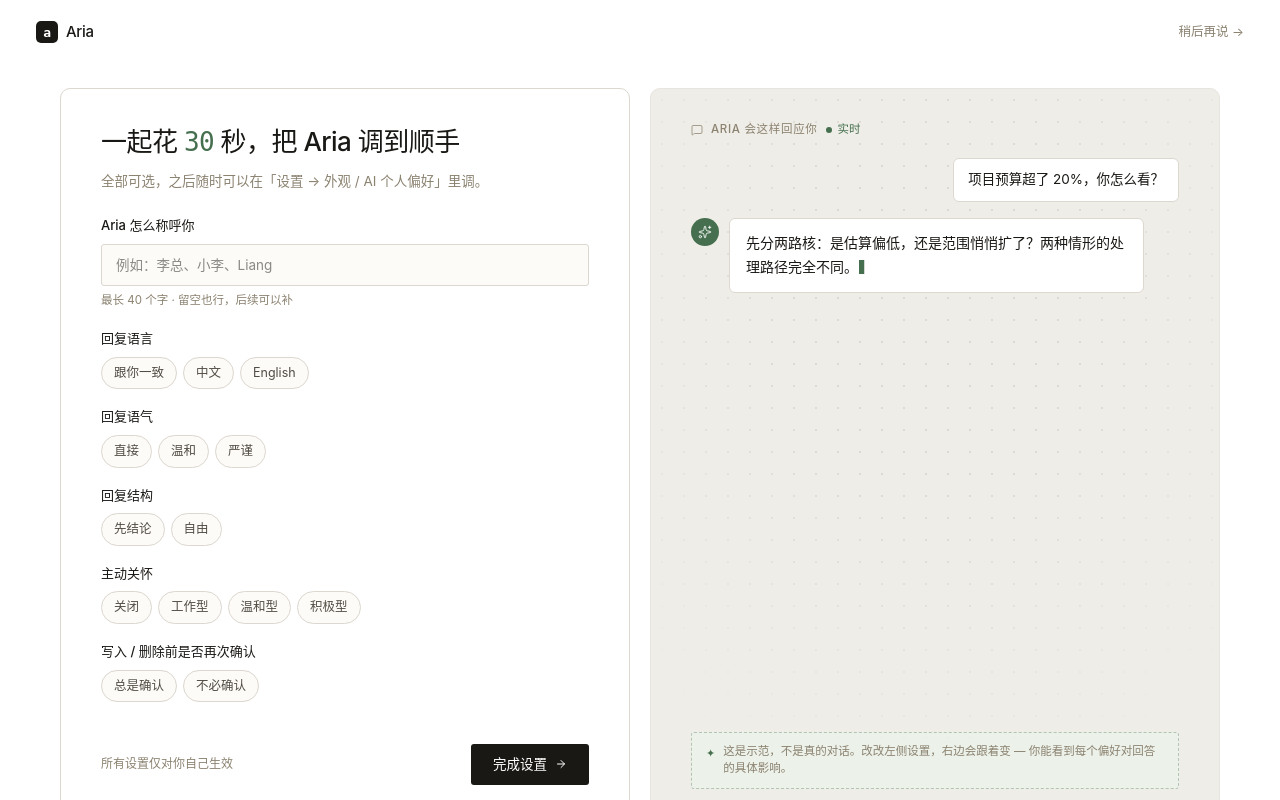
Test: PreferenceOnboarding rendered behaviour › clicking a chip toggles aria-checked on the radio and re-renders the preview
Click the radio button labelled "温和" at {"x": 184, "y": 451}, box [158, 435, 209, 468]
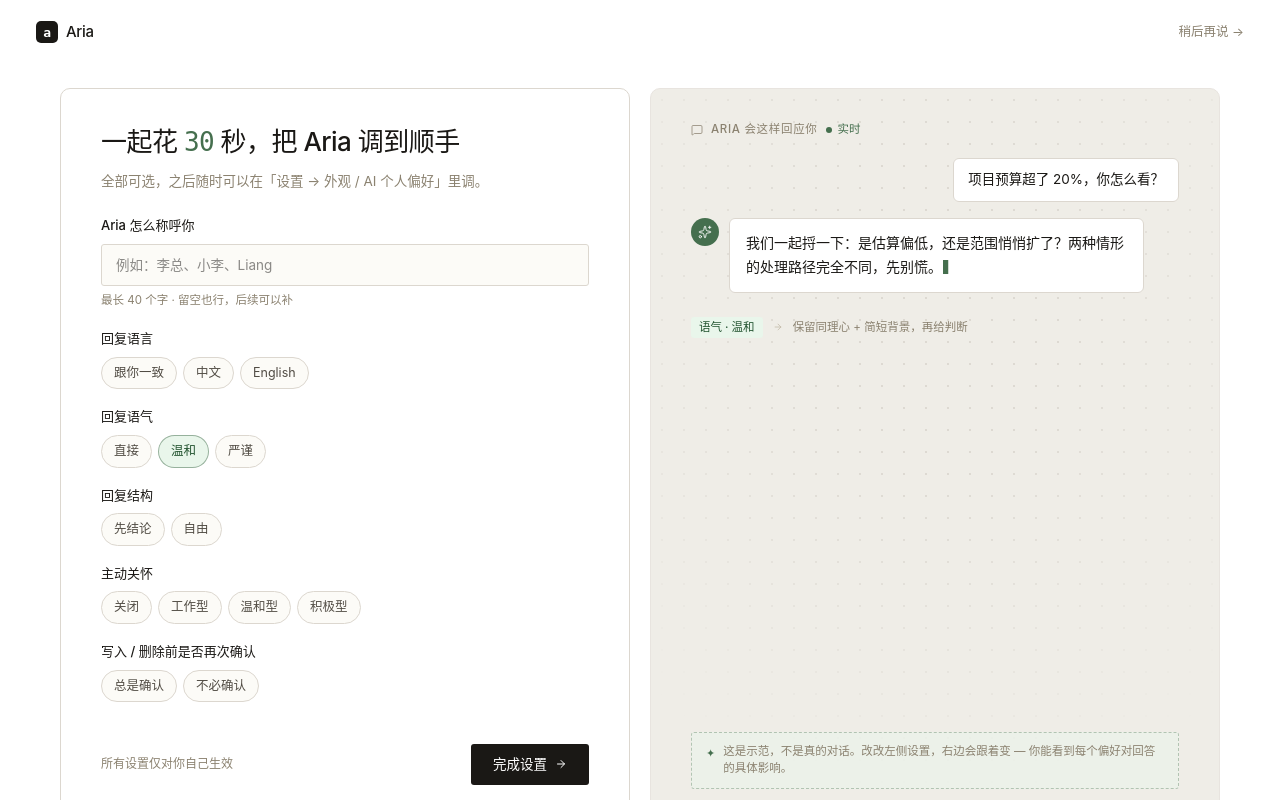
Expected: the text with test id "preview-aria-reply" no longer shows "先分两路核：是估算偏低，还是范围悄悄扩了？两种情形的处理路径完全不同。"
